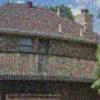chimneys: (57, 9, 68, 20)
